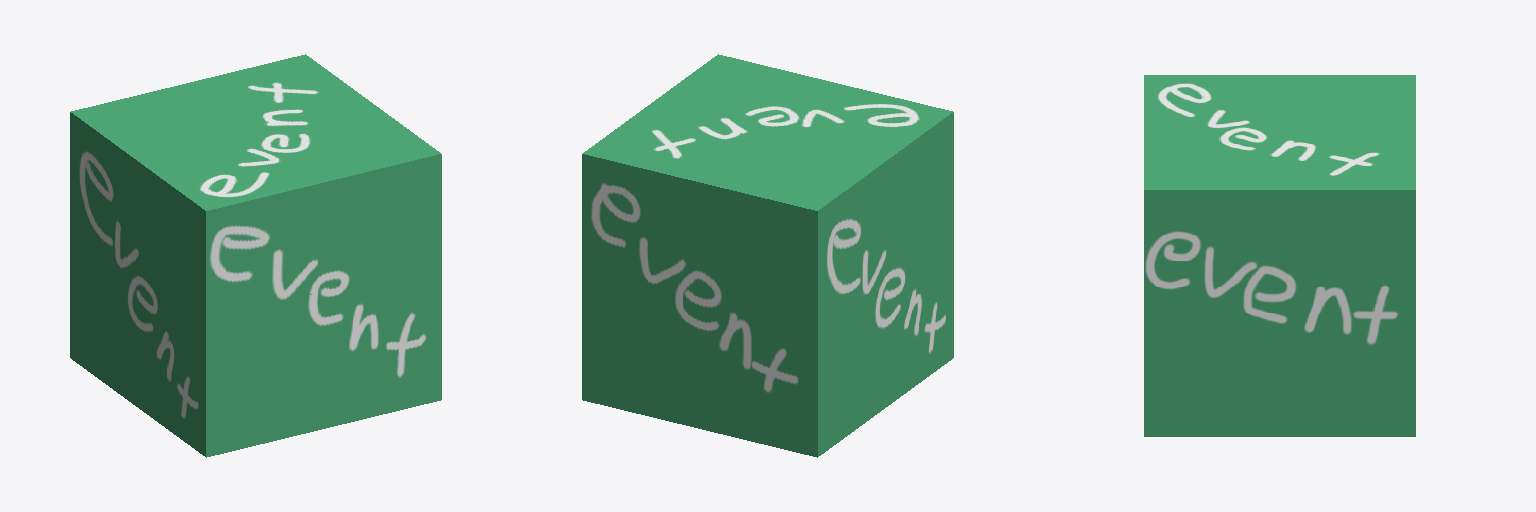
3 views of the same model, side by side, from view 1: azimuth 30°, elevation 25°; view 2: azimuth 150°, elevation 25°; view 3: azimuth 270°, elevation 25° (orthographic).
Parts seen in each view (by area): view 1: Cube; view 2: Cube; view 3: Cube.
Part boxes in pixels (left/top/right/bottom): Cube: left=70, top=54, right=441, bottom=457; Cube: left=582, top=54, right=953, bottom=457; Cube: left=1144, top=75, right=1415, bottom=436.
Bounding box in the file's own units: 2 × 2 × 2.
Materials: 1 (1 with a texture image).